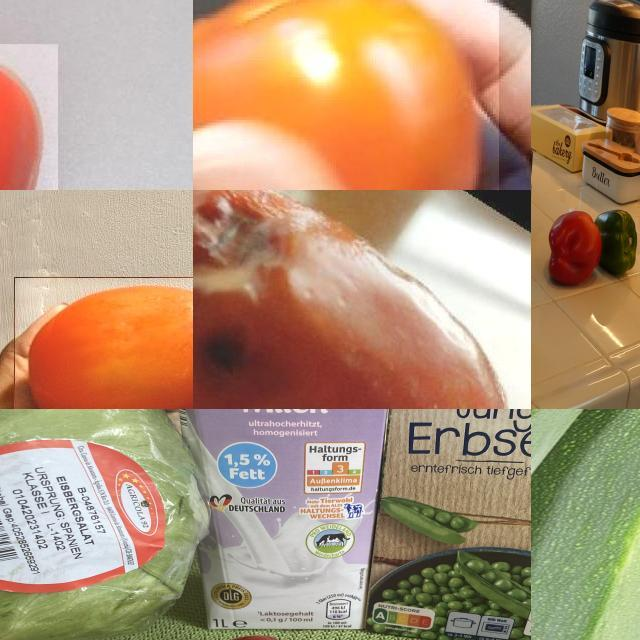bell_pepper: (550, 205, 602, 294), (598, 195, 638, 277)
tomato: (194, 1, 499, 191), (15, 278, 194, 410), (1, 45, 58, 191)
zucchini: (532, 410, 620, 610)
